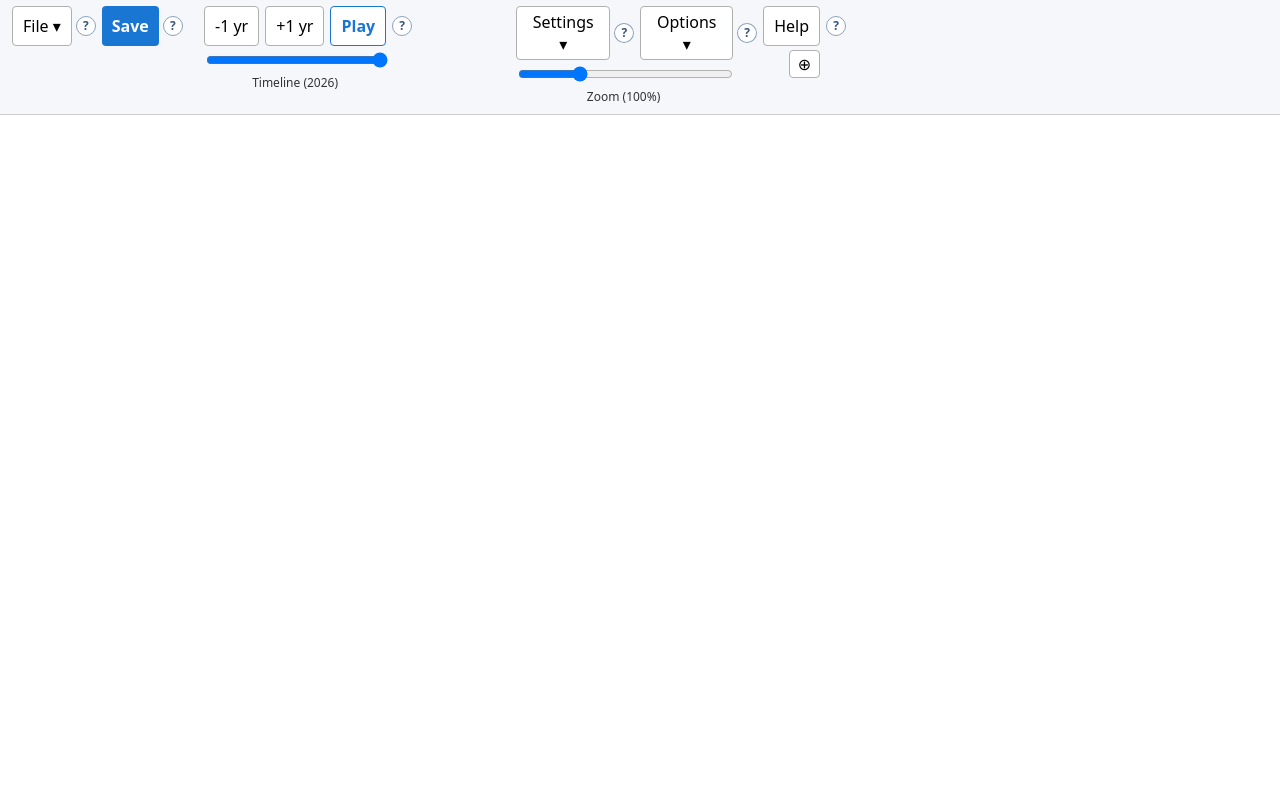
Scenario: AppRibbon — File menu (G-TEST-12) › has no "Export SVG" — it saved a PNG under a .svg name (review DE2-10)
Click the button "File ▾": [42, 26] box [12,6,72,46]
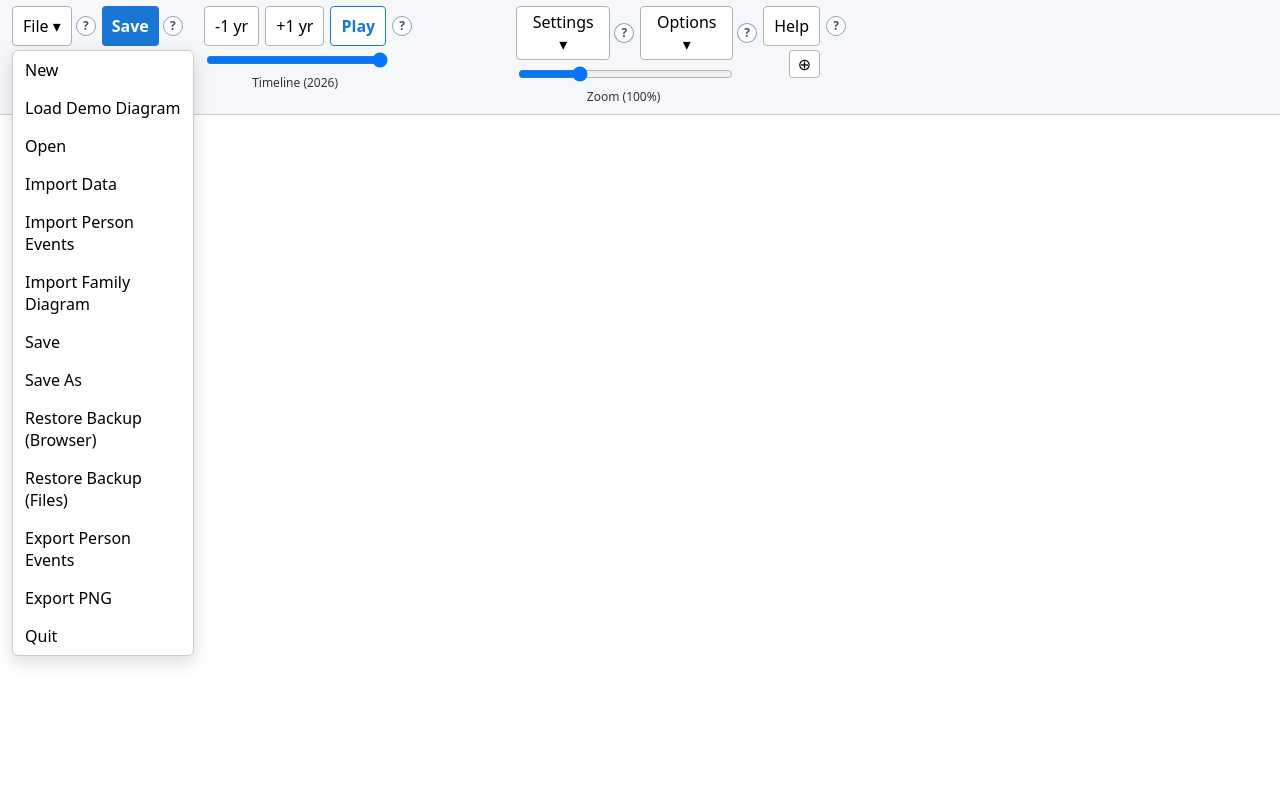
Expected: the button "Export PNG" is shown, [13,579,193,617]
